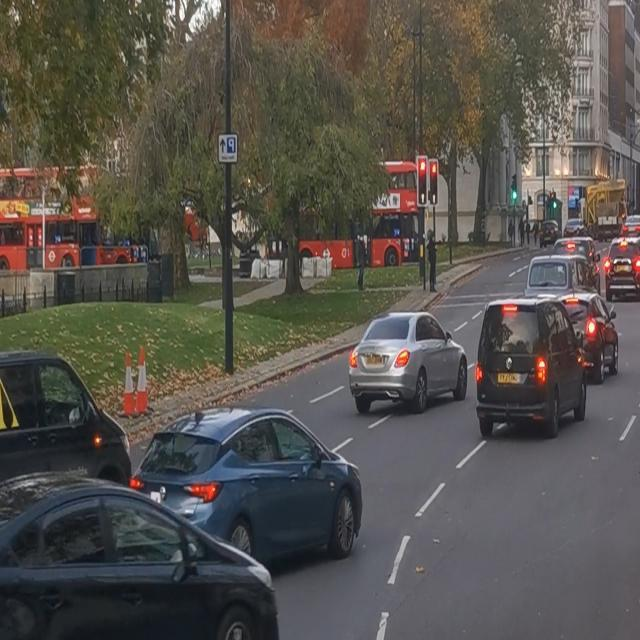Ad-signs: (217, 132, 238, 163)
Bus: (583, 178, 627, 240)
Car: (0, 470, 280, 639), (128, 405, 363, 568), (0, 349, 132, 490), (473, 294, 589, 438), (347, 310, 467, 413)
Traffic-light: (509, 174, 518, 203)
